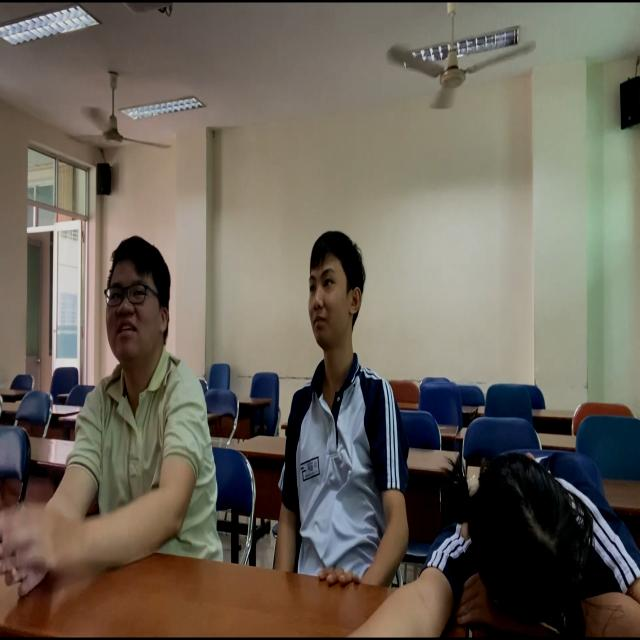sleep: (407, 439, 640, 640)
